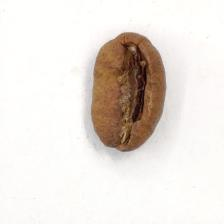NG: (99, 35, 156, 148)
